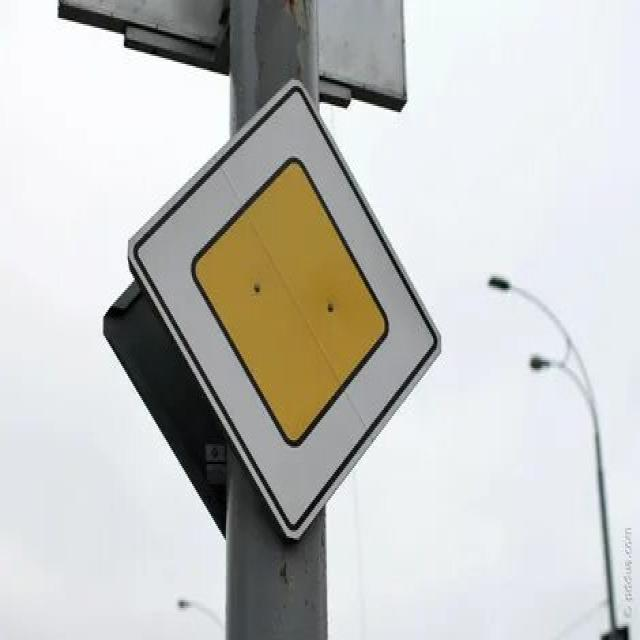signs: (126, 80, 444, 541)
